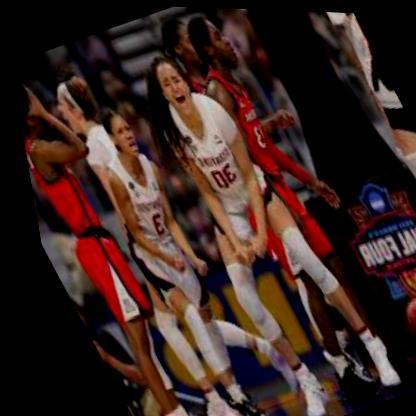basketball: (388, 290, 416, 346)
